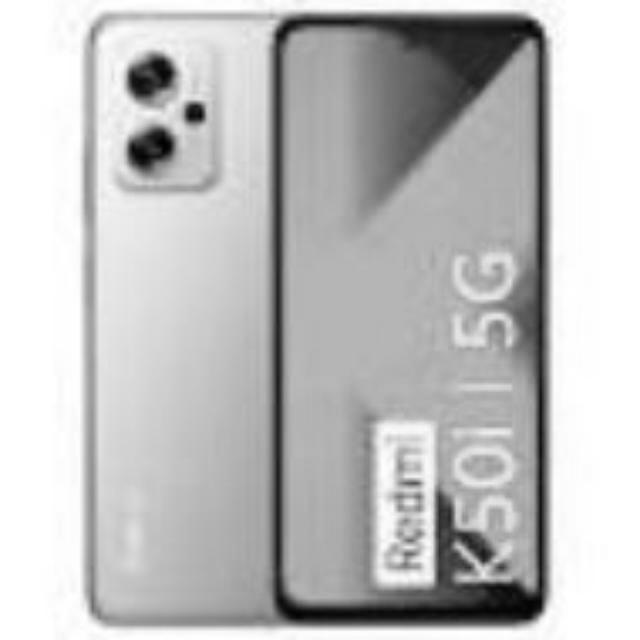fake: (260, 2, 561, 624), (85, 22, 280, 612)
